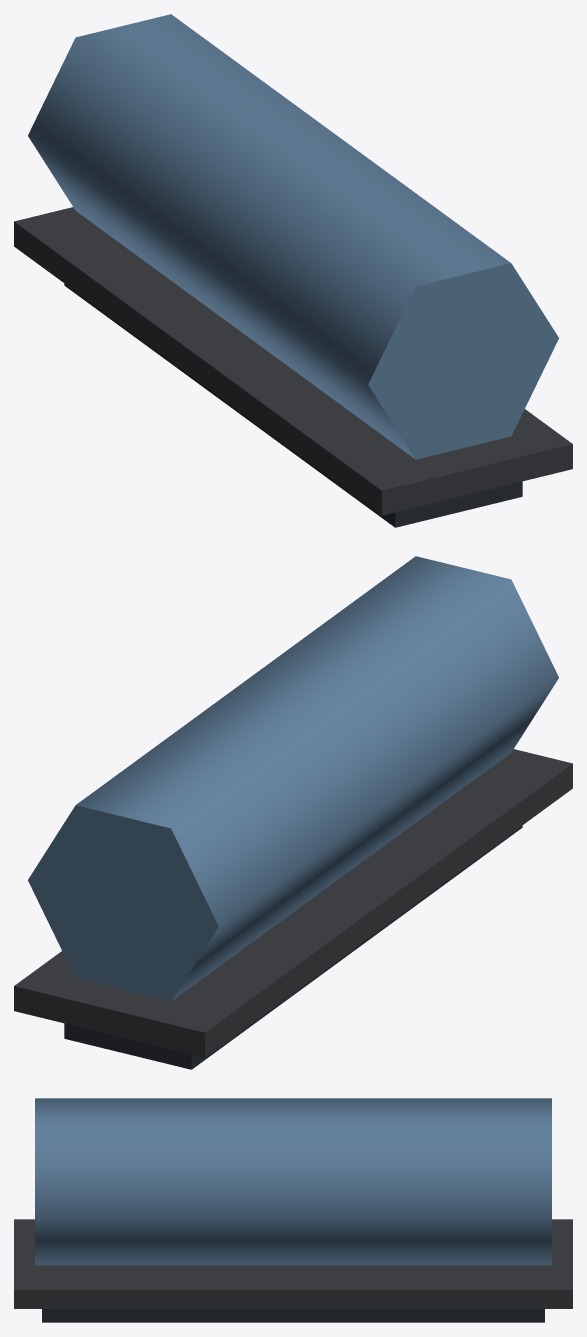
Rendered from veh_ground_rail_wagon_a10_lod1.glb.
The picture shows the model from 3 angles, top to bottom: view 1: azimuth 30°, elevation 25°; view 2: azimuth 150°, elevation 25°; view 3: azimuth 270°, elevation 25°; orthographic projection. The views are drawn at different scales.
Parts seen in each view (by area): view 1: body; view 2: body; view 3: body.
Boxes of the visible parts, x1,y1,x2,y2 form: body: (14,14,572,527); body: (14,556,572,1069); body: (14,1098,572,1322).
Size of the model in its own units: 2.4 by 2.94 by 8.
